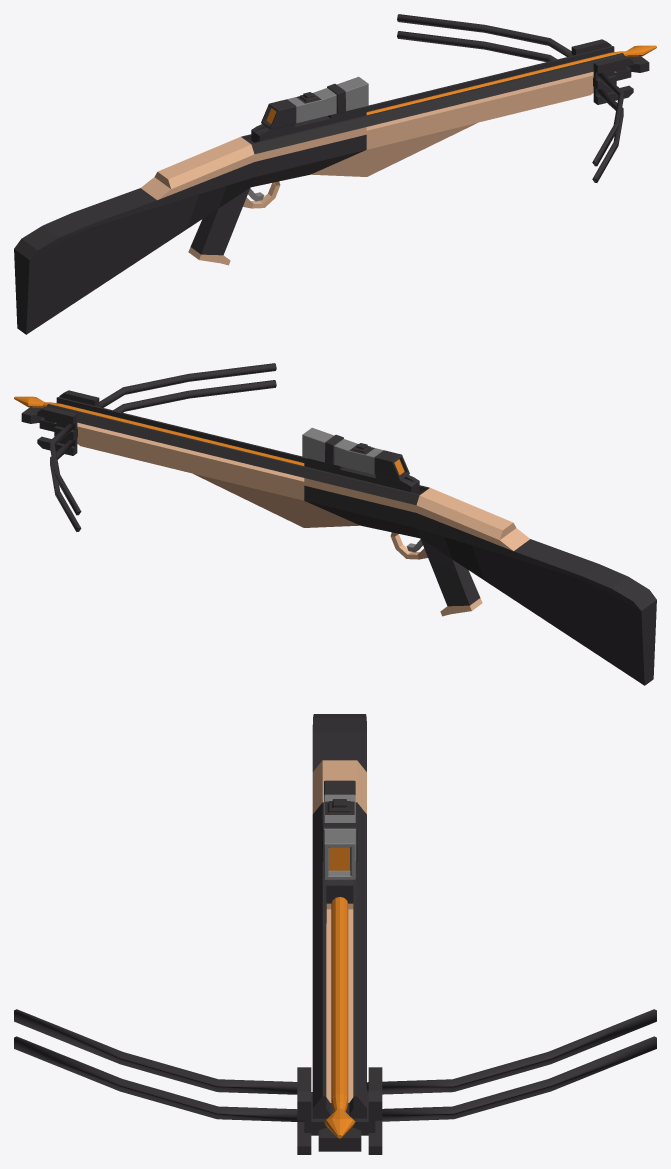
Rendered from Ballesta 01.fbx.
3 renders of one model, top to bottom at view 1: azimuth 30°, elevation 25°; view 2: azimuth 150°, elevation 25°; view 3: azimuth 270°, elevation 25°, orthographic. The views are drawn at different scales.
Visible parts, largest first — view 1: Cube.053; view 2: Cube.053; view 3: Cube.053.
Boxes of the visible parts, bbox=[...] form: Cube.053: bbox=[14, 14, 656, 334]; Cube.053: bbox=[14, 363, 656, 685]; Cube.053: bbox=[14, 714, 656, 1154].
Size of the model in its own units: 1.09 by 0.2764 by 0.5913.
